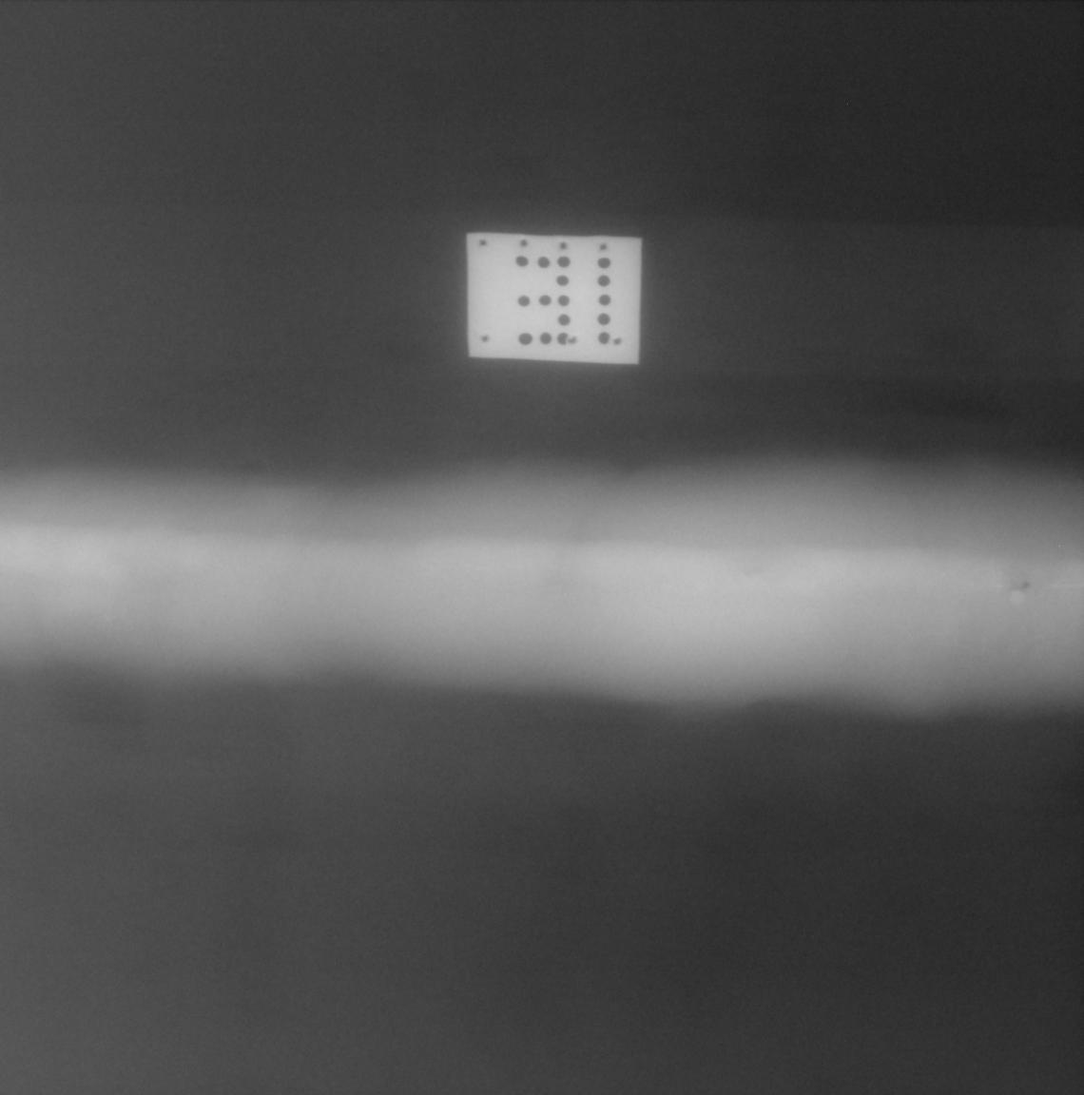Inclusion: (1009, 582, 1029, 592), (749, 569, 758, 576)
